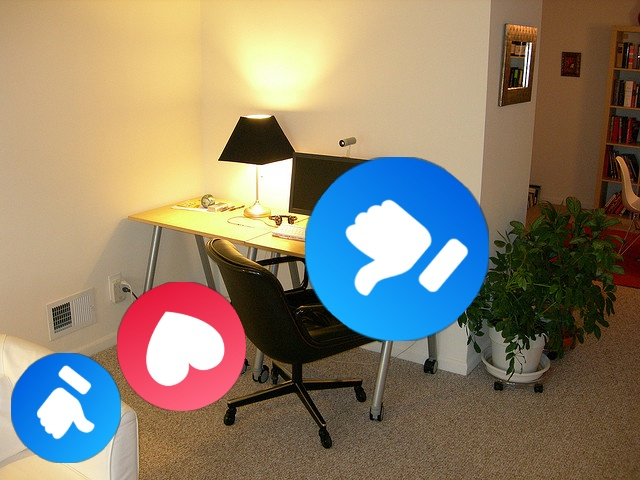like: (305, 157, 489, 341), (11, 353, 121, 463)
love: (117, 282, 246, 411)
